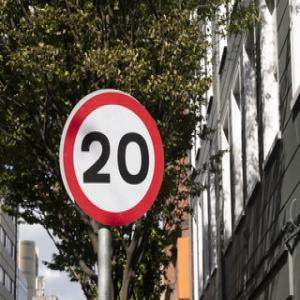speed limit 20: (59, 88, 167, 225)
